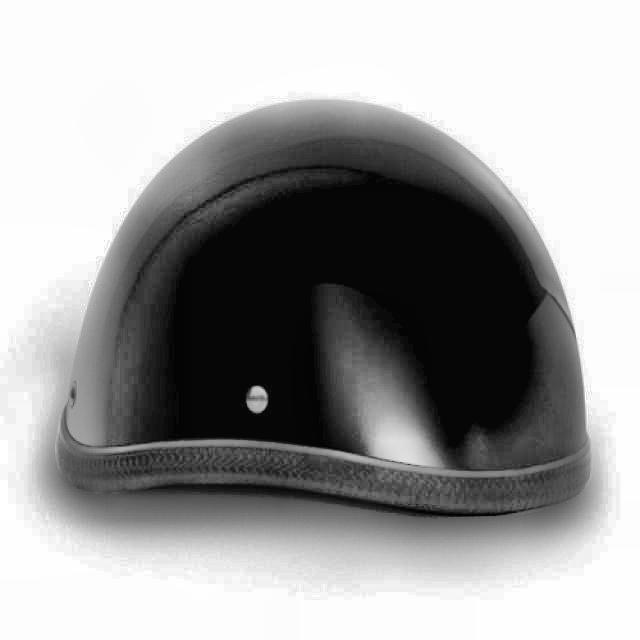Helmet: (52, 89, 598, 524)
